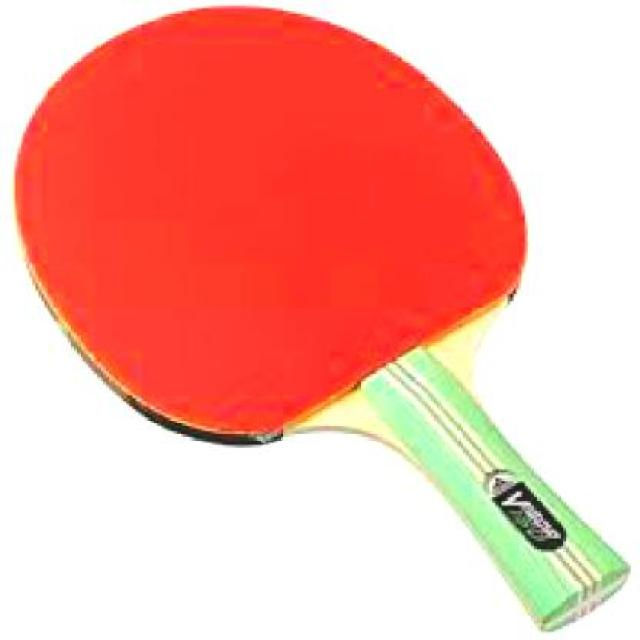table_tennis_racket: (14, 5, 631, 634)
